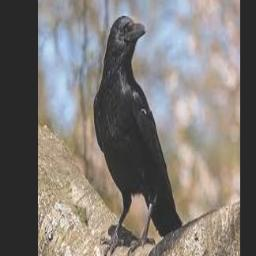Crow: (93, 16, 183, 256)
